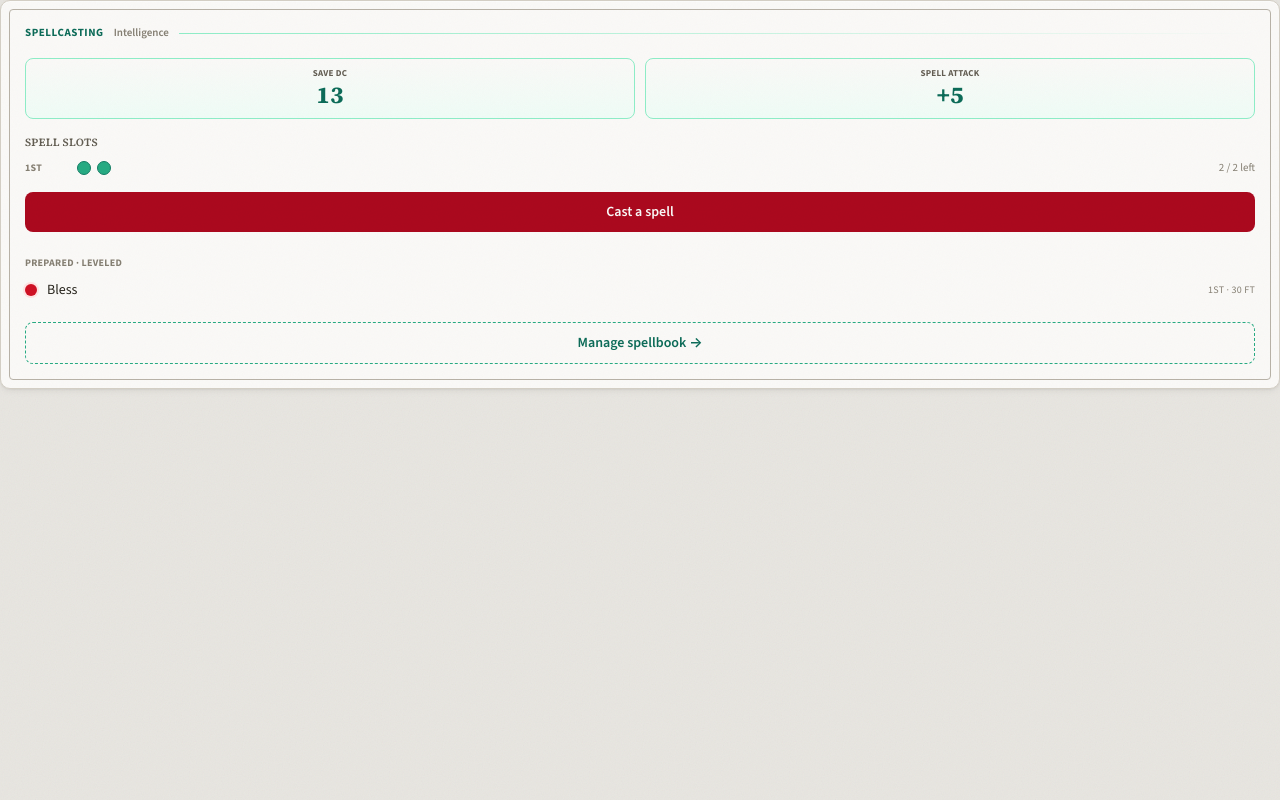
it: SpellsSection concentration › opens the grimoire view (not stacked) when Manage spellbook is clicked
Check: the button "done" is not shown
Click the button "Manage spellbook →" at (640, 343), box x1=25 y1=322 x2=1255 y2=364
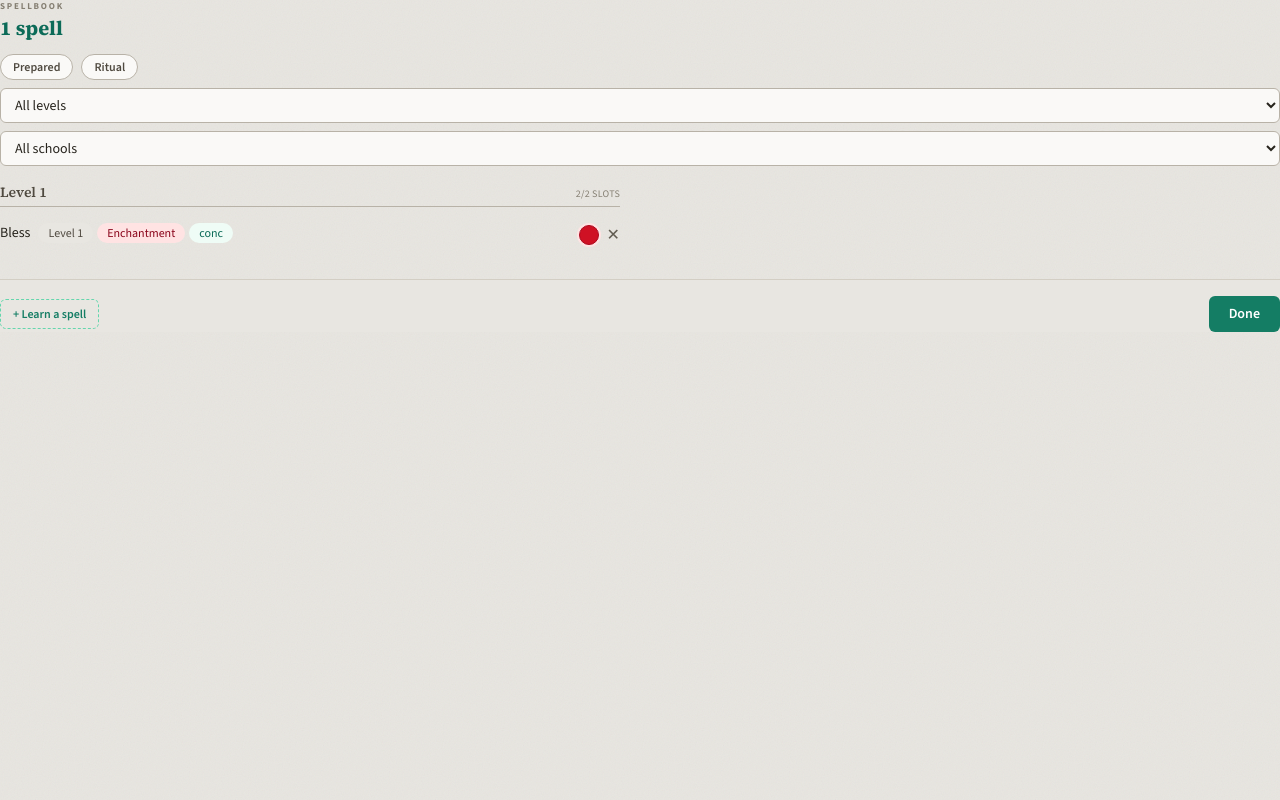
Check: the button "Done" is shown, box x1=1209 y1=296 x2=1279 y2=332
Check: the button "Manage spellbook" is gone
